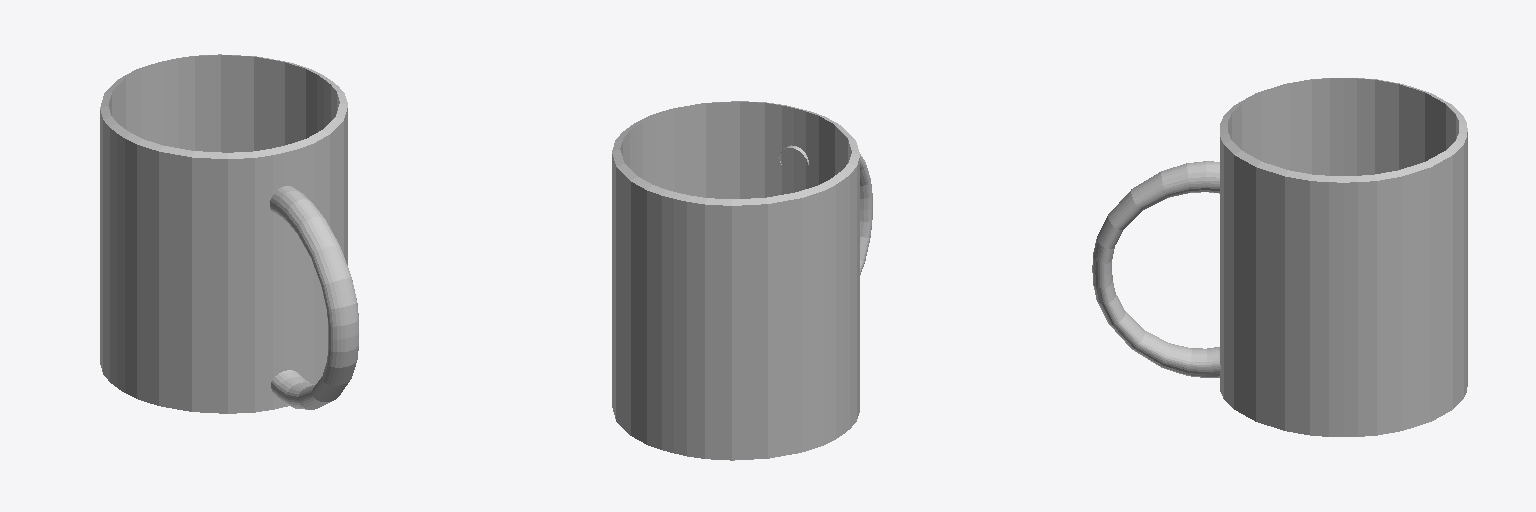
Rendered from mug2.obj.
3 renders of one model, left to right at view 1: azimuth 30°, elevation 25°; view 2: azimuth 150°, elevation 25°; view 3: azimuth 270°, elevation 25°, orthographic.
Parts seen in each view (by area): view 1: Surface_Mesh.001, SurfTorus_Mesh; view 2: Surface_Mesh.001, SurfTorus_Mesh; view 3: Surface_Mesh.001, SurfTorus_Mesh.
Boxes of the visible parts, x1=… form: Surface_Mesh.001: x1=100, y1=54, x2=347, y2=413; SurfTorus_Mesh: x1=270, y1=186, x2=358, y2=409; Surface_Mesh.001: x1=612, y1=101, x2=859, y2=460; SurfTorus_Mesh: x1=779, y1=145, x2=872, y2=274; Surface_Mesh.001: x1=1220, y1=78, x2=1467, y2=436; SurfTorus_Mesh: x1=1092, y1=161, x2=1220, y2=377.
Size of the model in its own units: 2 by 2.29 by 3.03.